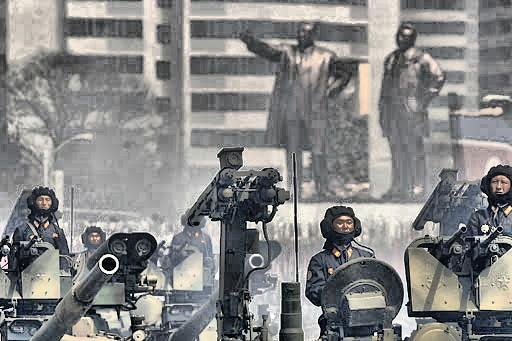tanks: (318, 231, 512, 341), (195, 153, 287, 341), (284, 339, 287, 341)
